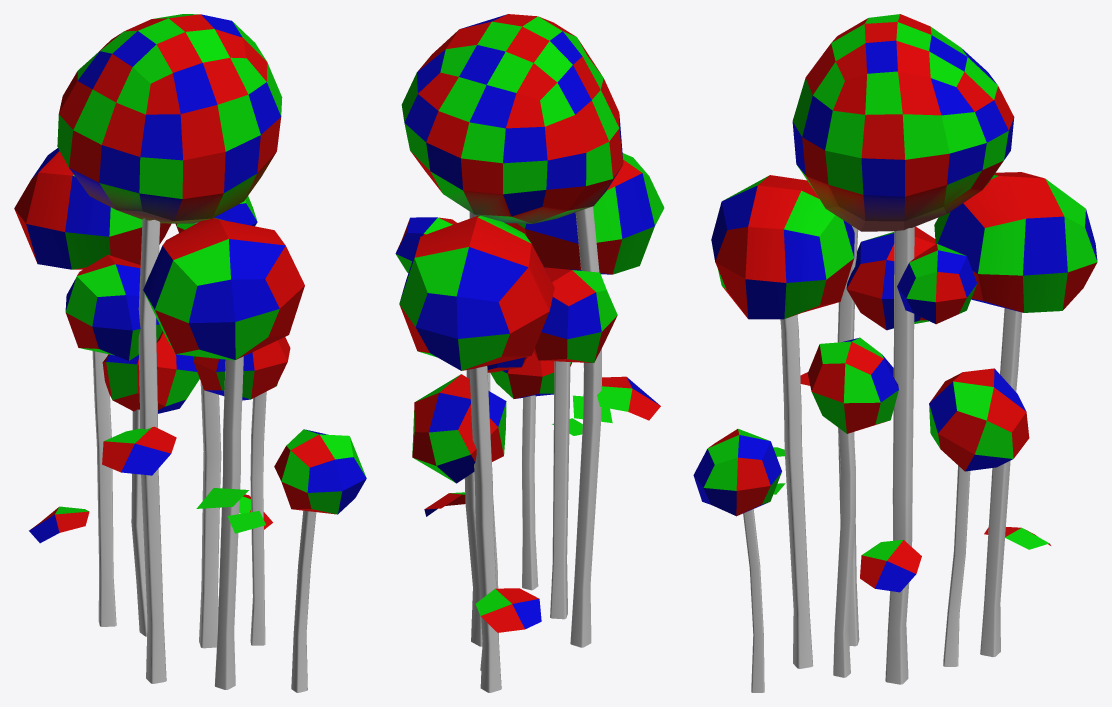
File: Tree_E_04.fbx
The picture shows the model from 3 angles, left to right: view 1: azimuth 30°, elevation 25°; view 2: azimuth 150°, elevation 25°; view 3: azimuth 270°, elevation 25°; orthographic projection. The views are drawn at different scales.
Parts seen in each view (by area): view 1: Tree_E_04_Leaves, Tree_E_04_Trunk; view 2: Tree_E_04_Leaves, Tree_E_04_Trunk; view 3: Tree_E_04_Leaves, Tree_E_04_Trunk.
Boxes of the visible parts, x1,y1,x2,y2 form: Tree_E_04_Leaves: (14, 14, 366, 543); Tree_E_04_Trunk: (92, 218, 316, 692); Tree_E_04_Leaves: (395, 14, 664, 632); Tree_E_04_Trunk: (464, 206, 601, 692); Tree_E_04_Leaves: (693, 14, 1097, 592); Tree_E_04_Trunk: (743, 226, 1021, 692).
Size of the model in its own units: 1.91 by 5.55 by 3.18.
